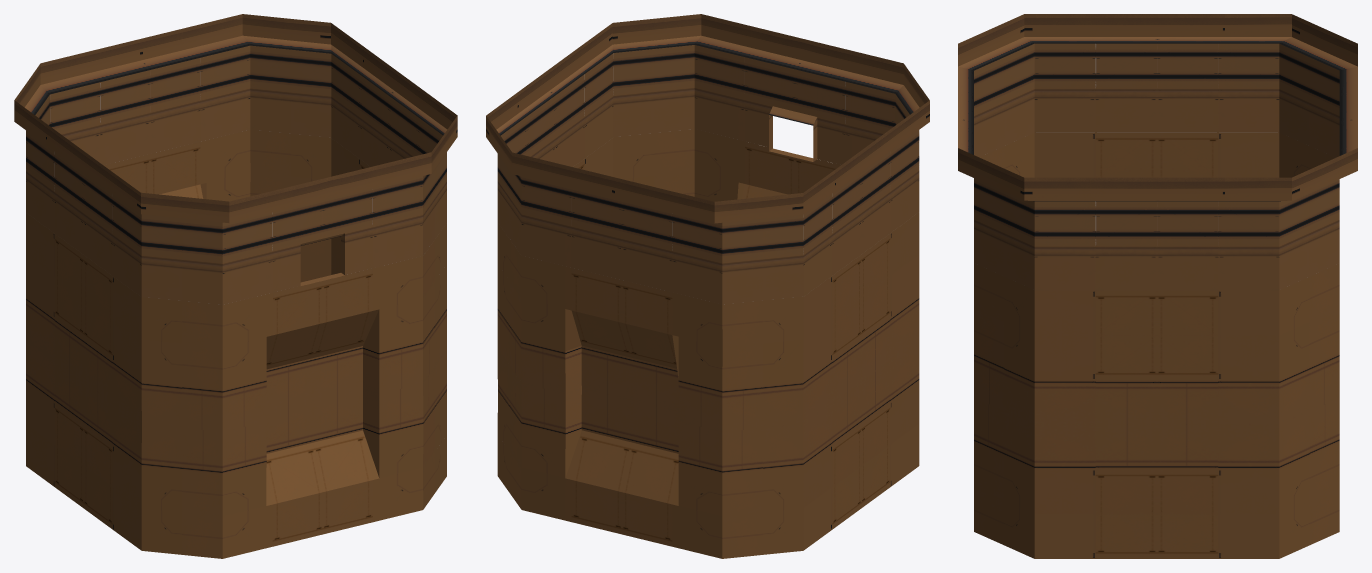
File: WallExteriorClub1.fbx
3 renders of one model, left to right at view 1: azimuth 30°, elevation 25°; view 2: azimuth 150°, elevation 25°; view 3: azimuth 270°, elevation 25°, orthographic. The views are drawn at different scales.
Visible parts, largest first — view 1: WallExteriorClub1; view 2: WallExteriorClub1; view 3: WallExteriorClub1.
Part boxes in pixels (bbox=[...]): WallExteriorClub1: bbox=[14, 14, 457, 558]; WallExteriorClub1: bbox=[486, 14, 929, 558]; WallExteriorClub1: bbox=[958, 14, 1357, 558].
Bounding box in the file's own units: 1869 × 2046 × 1929.
